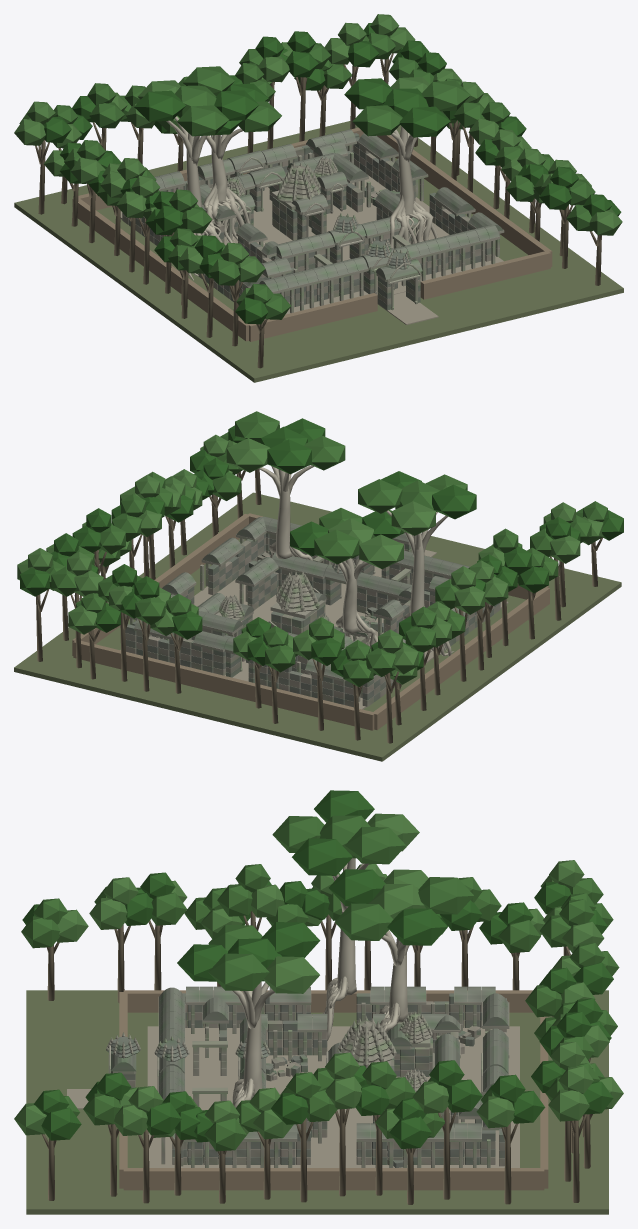
File: ta-prohm-normal.glb
3 views of the same model, one above another, from view 1: azimuth 30°, elevation 25°; view 2: azimuth 150°, elevation 25°; view 3: azimuth 270°, elevation 25° (orthographic). The views are drawn at different scales.
Parts seen in each view (by area): view 1: Forest floor, Forest canopy 1, Forest canopy 0, Forest canopy 2, Corbelled stone roofs, Laterite enclosure, Carved sandstone, Forest trunks, Pale living roots, Weathered sandstone 1, Courtyard paving, Weathered sandstone 2 (+2 smaller); view 2: Forest floor, Forest canopy 1, Forest canopy 0, Forest canopy 2, Forest trunks, Laterite enclosure, Corbelled stone roofs, Weathered sandstone 1, Pale living roots, Carved sandstone, Weathered sandstone 0, Weathered sandstone 2 (+2 smaller); view 3: Forest floor, Forest canopy 0, Forest canopy 1, Forest canopy 2, Laterite enclosure, Corbelled stone roofs, Forest trunks, Courtyard paving, Carved sandstone, Pale living roots, Weathered sandstone 1, Weathered sandstone 2 (+2 smaller).
Part boxes in pixels (<box>): Forest floor: <box>14,121,623,382</box>; Forest canopy 1: <box>19,32,595,319</box>; Forest canopy 0: <box>43,23,621,324</box>; Forest canopy 2: <box>14,14,622,305</box>; Corbelled stone roofs: <box>154,129,503,291</box>; Laterite enclosure: <box>72,127,552,341</box>; Carved sandstone: <box>159,141,504,312</box>; Forest trunks: <box>35,53,601,368</box>; Pale living roots: <box>166,116,437,280</box>; Weathered sandstone 1: <box>122,145,491,304</box>; Courtyard paving: <box>120,174,503,324</box>; Weathered sandstone 2: <box>122,133,481,301</box>; Forest floor: <box>14,492,621,761</box>; Forest canopy 1: <box>45,411,607,686</box>; Forest canopy 0: <box>20,418,623,676</box>; Forest canopy 2: <box>17,425,603,684</box>; Forest trunks: <box>36,469,602,743</box>; Laterite enclosure: <box>72,513,549,730</box>; Corbelled stone roofs: <box>126,516,469,678</box>; Weathered sandstone 1: <box>125,534,500,707</box>; Pale living roots: <box>258,465,454,656</box>; Carved sandstone: <box>125,530,451,701</box>; Weathered sandstone 0: <box>125,538,489,701</box>; Weathered sandstone 2: <box>125,533,500,704</box>; Forest floor: <box>26,990,608,1214</box>; Forest canopy 0: <box>22,790,613,1148</box>; Forest canopy 1: <box>21,815,619,1151</box>; Forest canopy 2: <box>14,813,623,1139</box>; Laterite enclosure: <box>119,990,548,1190</box>; Corbelled stone roofs: <box>110,986,508,1138</box>; Forest trunks: <box>42,911,592,1204</box>; Courtyard paving: <box>67,1026,519,1167</box>; Carved sandstone: <box>106,991,509,1167</box>; Pale living roots: <box>232,858,409,1107</box>; Weathered sandstone 1: <box>172,1004,504,1164</box>; Weathered sandstone 2: <box>107,993,506,1167</box>.
Size of the model in its own units: 34.73 by 15.19 by 37.69.
